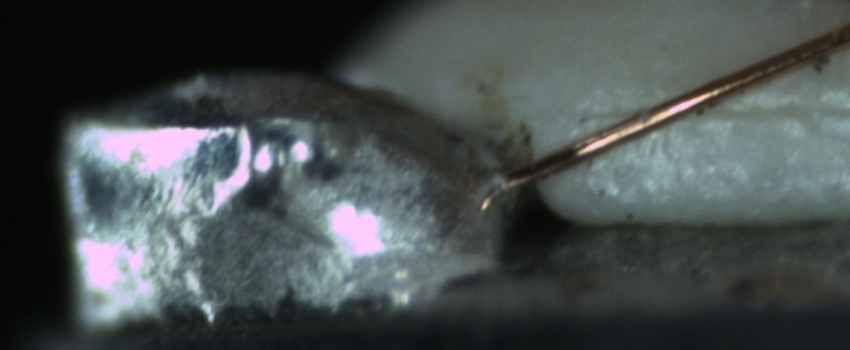DL: (608, 79, 850, 148)
